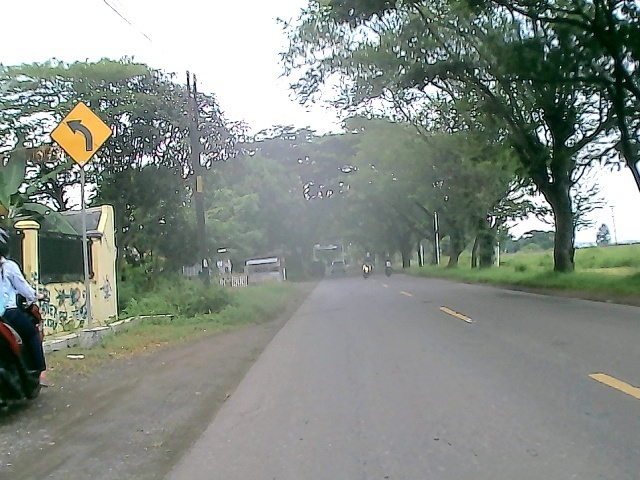Tikungan ke kiri: (49, 101, 115, 169)
